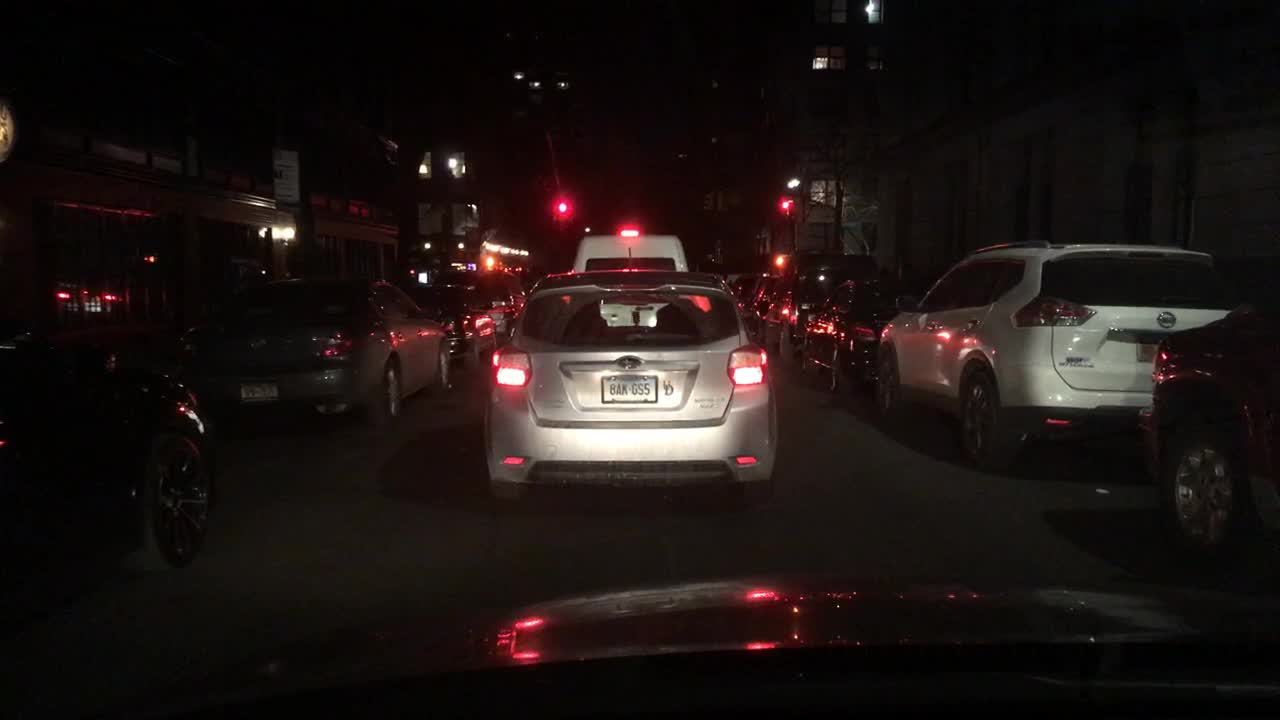car: (870, 239, 1244, 471), (486, 271, 777, 508), (0, 322, 215, 591), (206, 278, 451, 438), (1152, 275, 1278, 578), (797, 279, 902, 405), (391, 279, 498, 384), (424, 268, 525, 345), (572, 224, 687, 272), (786, 256, 825, 364), (757, 272, 786, 349), (730, 268, 760, 338)
traffic light: (552, 197, 571, 215), (481, 253, 495, 268), (777, 197, 791, 211)
